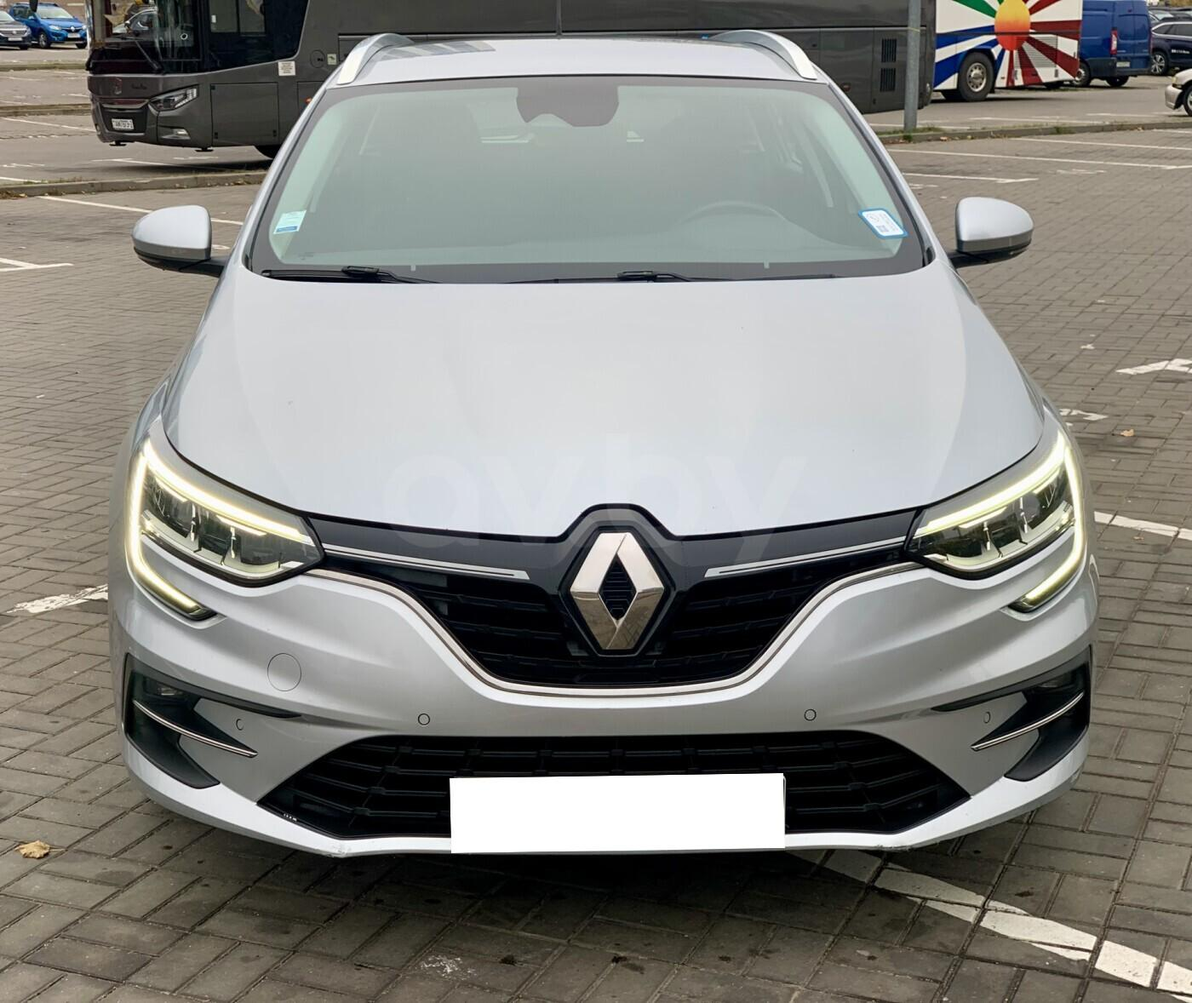Megane_2020: (106, 23, 1111, 877)
